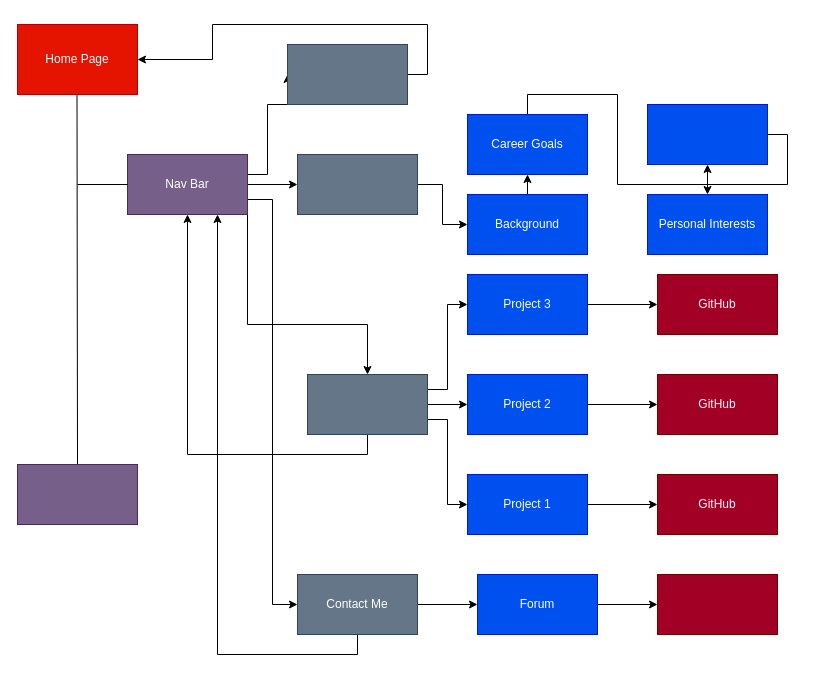
This 813x680 diagram has some shape labels left out. The shapes that lost their labels are listed below. From the top down, each one's centre as x and y in pixels, then its label:
At [347,74]: "Home".
At [707,134]: "Skills".
At [357,184]: "About".
At [367,404]: "Projects".
At [77,494]: "Welcome".
At [717,604]: "Email".
